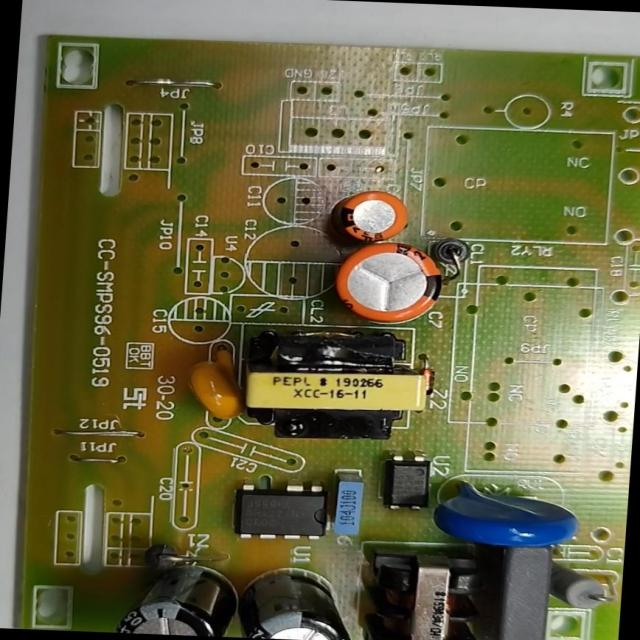Cap1: (331, 238, 446, 328)
Cap2: (329, 187, 413, 250)
Cap3: (233, 566, 363, 639)
Cap4: (111, 556, 244, 636)
MOSFET: (225, 479, 337, 544)
Mov: (423, 477, 587, 555)
Resistor: (541, 564, 611, 614)
Transformer: (226, 321, 437, 446), (352, 539, 490, 639)
